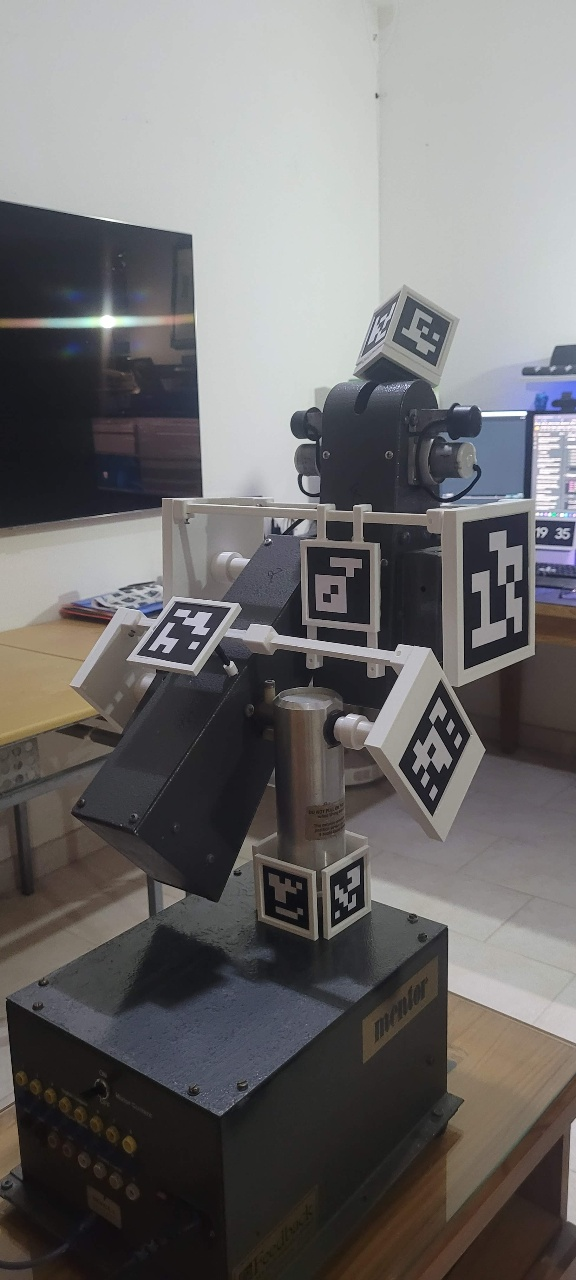Robot: (71, 285, 537, 946)
